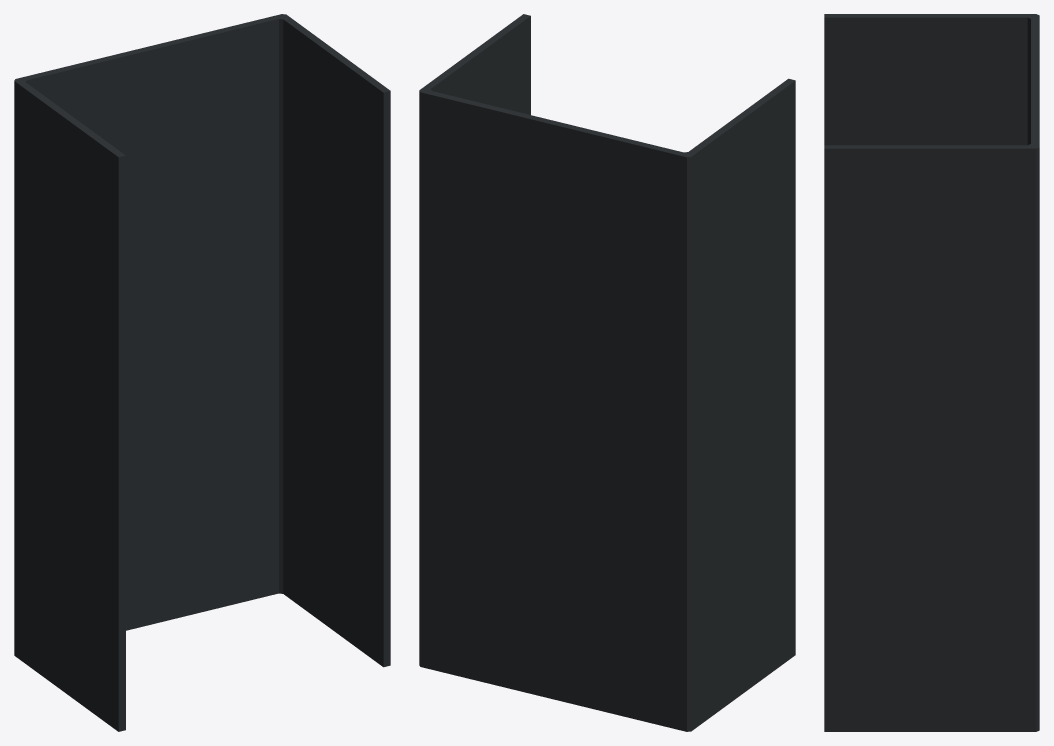
File: SM_WP_M1Garand_ClipEmpty.fbx
3 renders of one model, left to right at view 1: azimuth 30°, elevation 25°; view 2: azimuth 150°, elevation 25°; view 3: azimuth 270°, elevation 25°, orthographic.
Visible parts, largest first — view 1: SM_WP_M1Garand_ClipEmpty; view 2: SM_WP_M1Garand_ClipEmpty; view 3: SM_WP_M1Garand_ClipEmpty.
Part boxes in pixels (x1=…): SM_WP_M1Garand_ClipEmpty: x1=14, y1=14, x2=390, y2=731; SM_WP_M1Garand_ClipEmpty: x1=419, y1=14, x2=795, y2=731; SM_WP_M1Garand_ClipEmpty: x1=824, y1=14, x2=1039, y2=731.
Size of the model in its own units: 0.0242 by 0.0489 by 0.0164.
